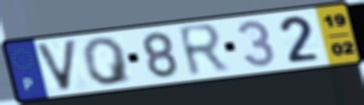2: (279, 14, 327, 66)
3: (235, 18, 278, 70)
8: (140, 31, 180, 80)
Q: (80, 35, 136, 87)
R: (174, 21, 233, 80)
V: (33, 37, 80, 94)
